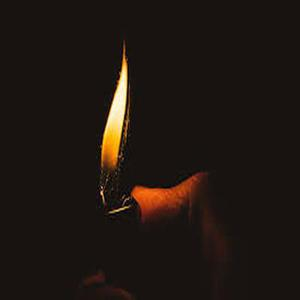fire: (98, 35, 137, 188)
